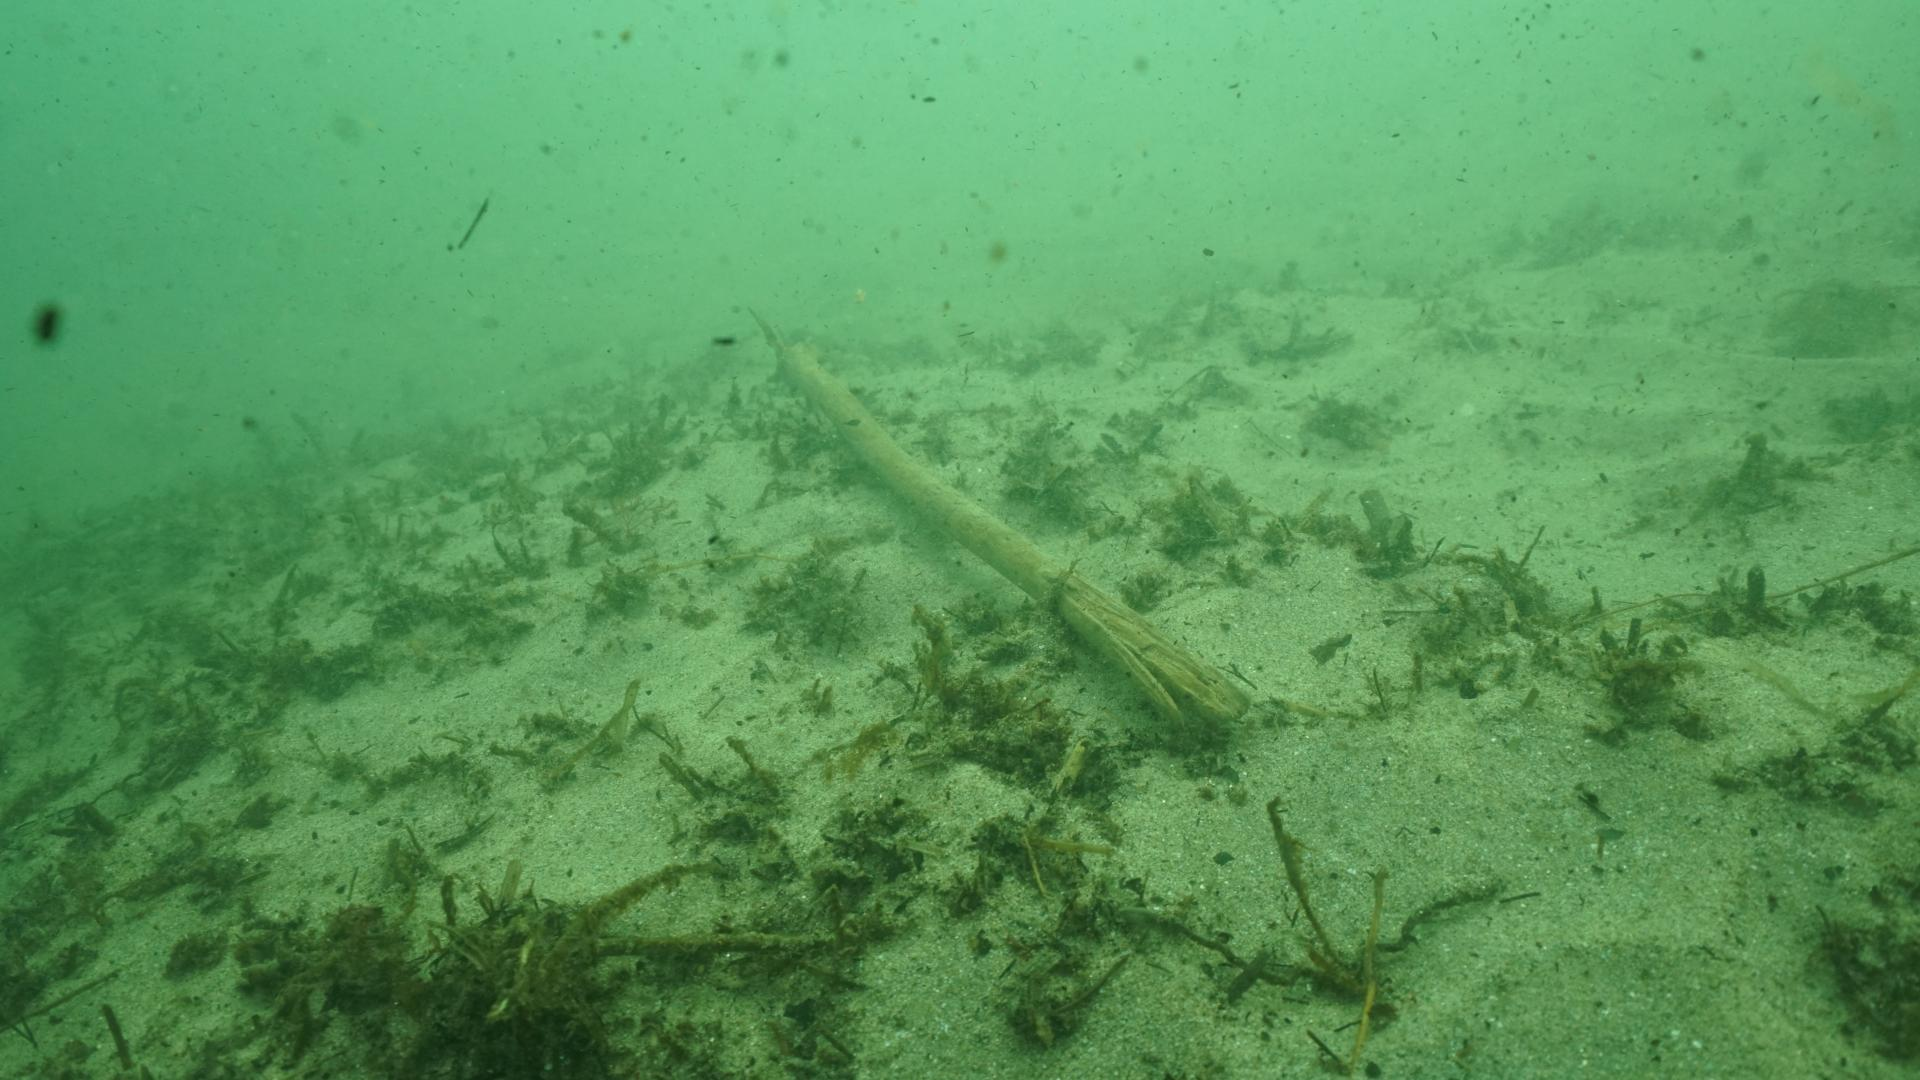wood: (777, 339, 1250, 731)
